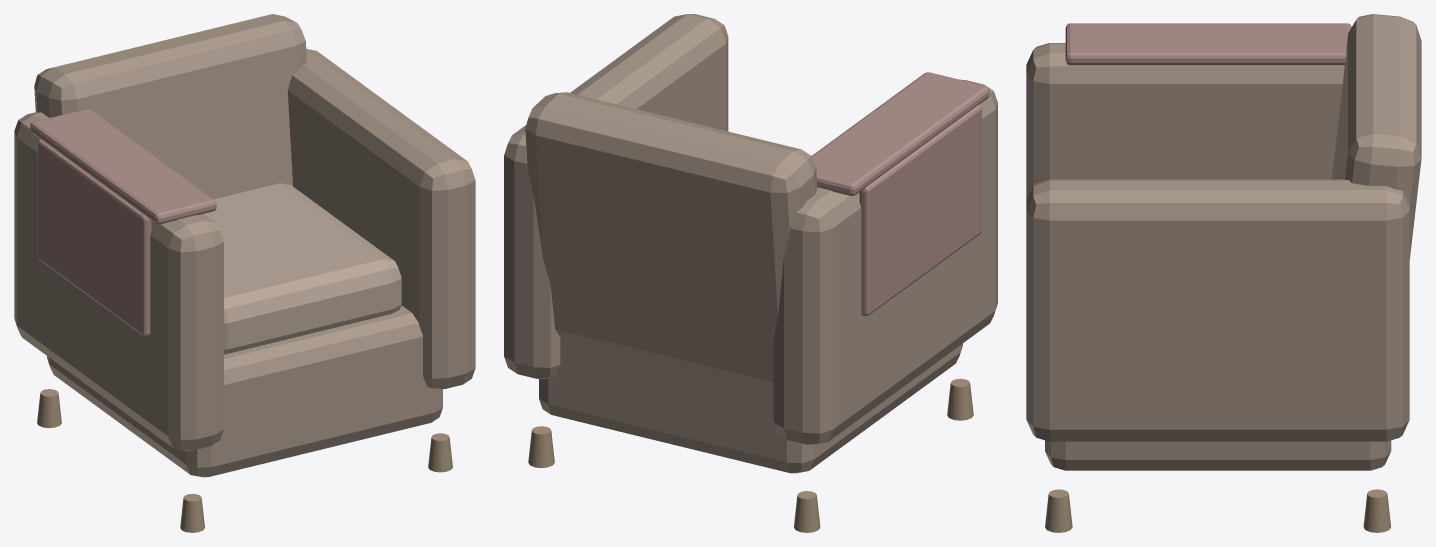
The model's file is armchair.glb.
3 renders of one model, left to right at view 1: azimuth 30°, elevation 25°; view 2: azimuth 150°, elevation 25°; view 3: azimuth 270°, elevation 25°, orthographic. The views are drawn at different scales.
Parts seen in each view (by area): view 1: furn_armchair; view 2: furn_armchair; view 3: furn_armchair.
Boxes of the visible parts, x1,y1,x2,y2 form: furn_armchair: (14, 14, 475, 532); furn_armchair: (504, 14, 997, 532); furn_armchair: (1026, 14, 1421, 532).
Size of the model in its own units: 0.8675 by 0.9215 by 0.8557.
